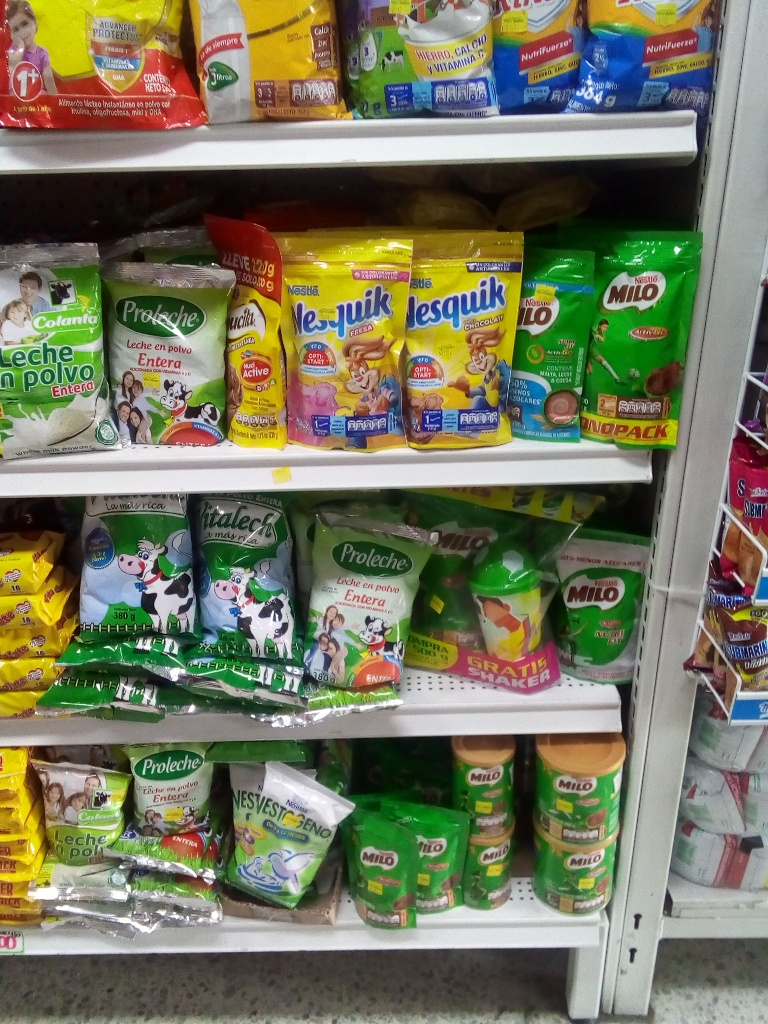COL0170203DYP10000: (342, 810, 417, 930)
COL0170203DYP25000: (580, 230, 695, 450)
COL0170203DYP50000: (401, 496, 492, 653)
COL0170203LAT20000: (462, 834, 519, 909)
COL0170203LAT40000: (530, 831, 619, 922)
COL0170205DYP20000: (511, 238, 588, 444)
COL0170303DYP20000: (398, 224, 512, 450)
COL0170305DYP20000: (275, 233, 409, 448)
